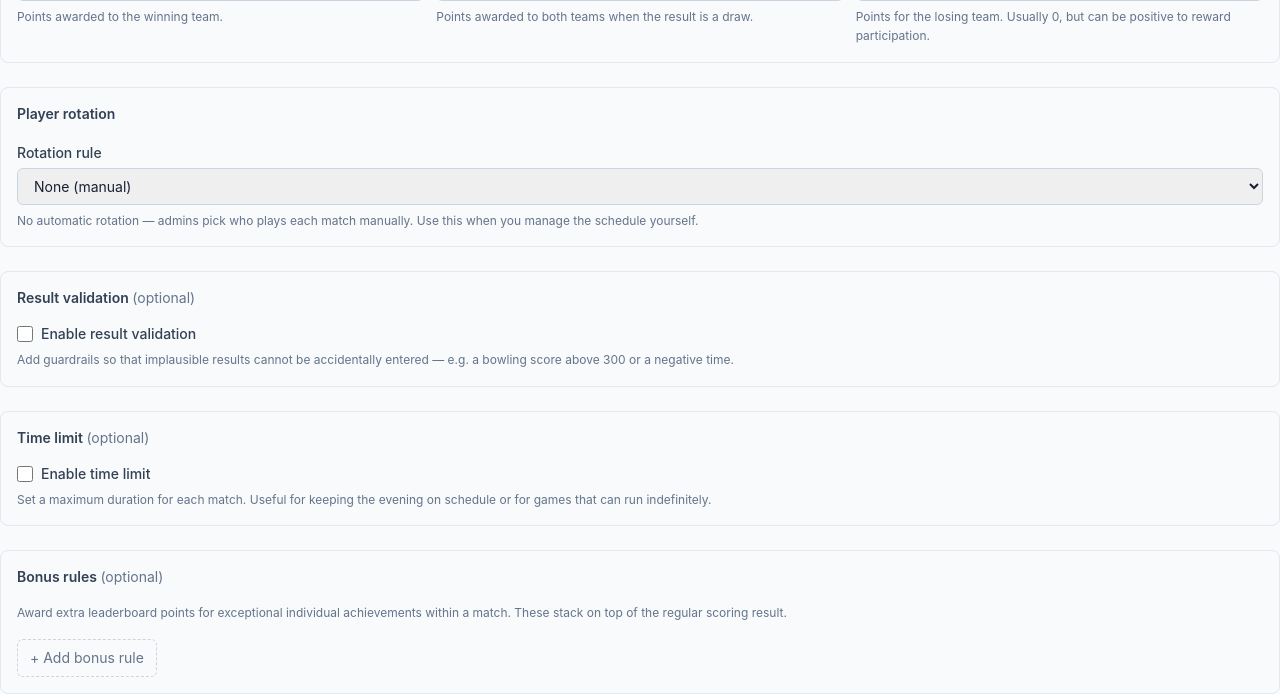
Test: GameForm › shows validation rule fields when enabled
(page scrolled)
Check: the field labelled "min value" is not shown
Click the checkbox labelled "Enable result validation": (25, 334) left=17, top=326, right=33, bottom=342
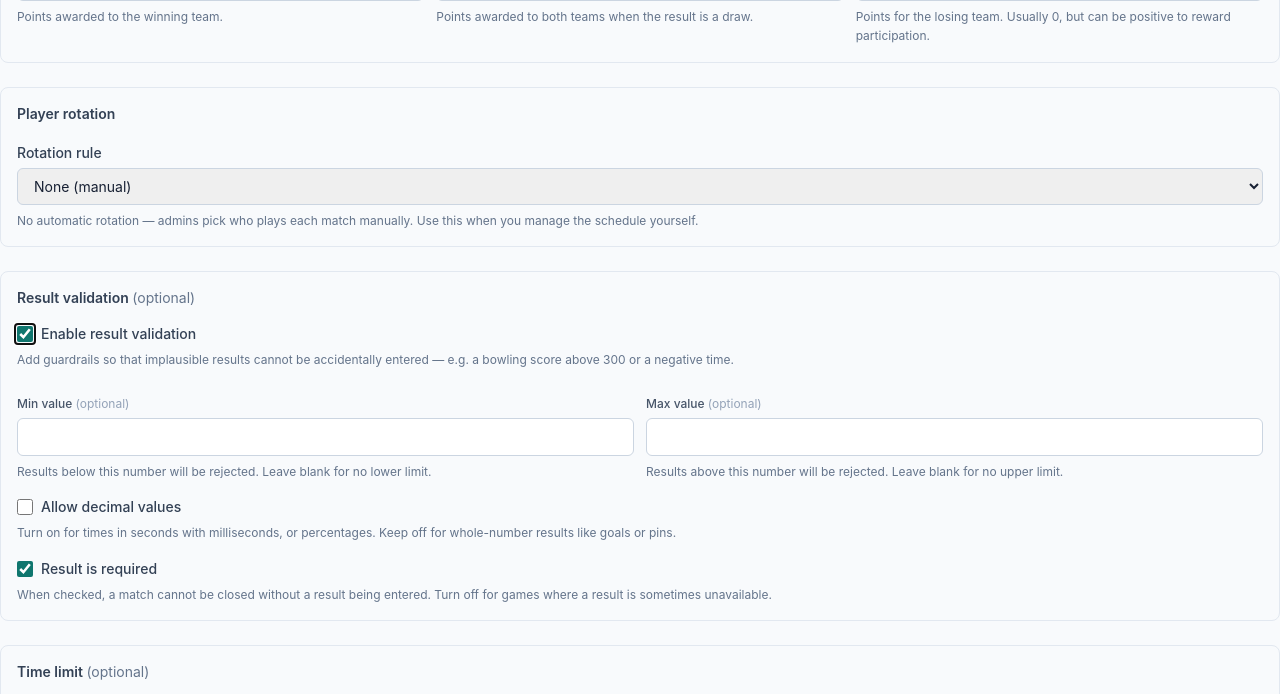
Check: the number field labelled "Min value" is shown, box left=17, top=418, right=634, bottom=456
Check: the number field labelled "Max value" is shown, box left=646, top=418, right=1263, bottom=456
